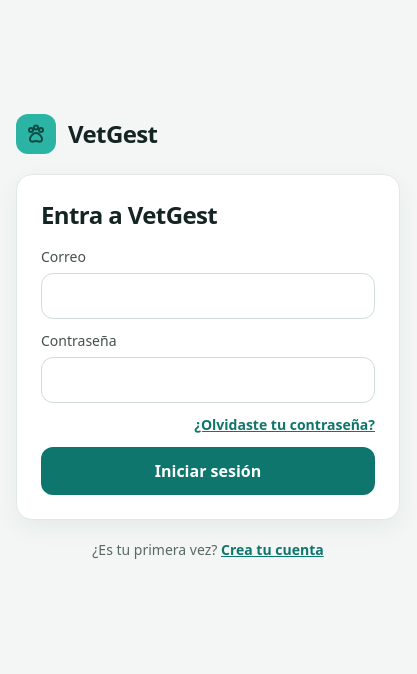
Test case: LoginPage › registra con los datos correctos y avisa si hay que confirmar el correo
Click the button "Crea tu cuenta".
click(272, 550)  # box [221,540,324,560]
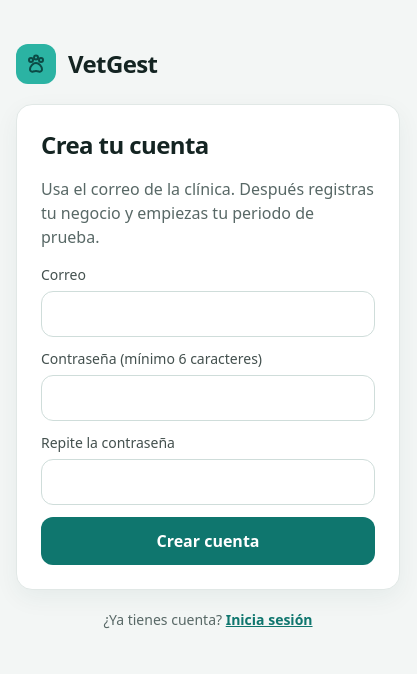
Type " ana@clinica.com " into the field labelled "Correo".
click(208, 314); type(" ana@clinica.com ")  # box [41,291,375,337]
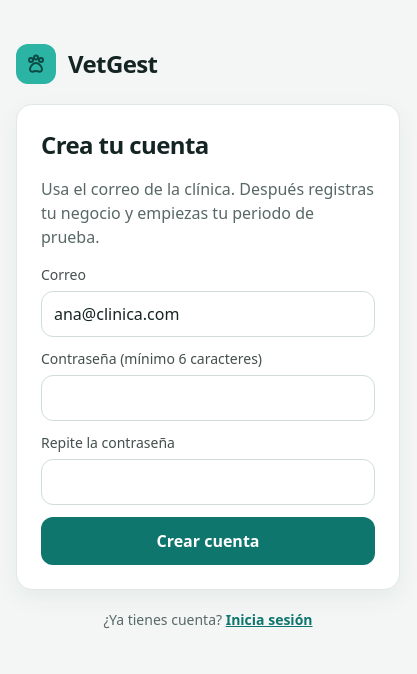
Type "secreta1" into the password field labelled "Contraseña (mínimo 6 caracteres)".
click(208, 398); type("secreta1")  # box [41,375,375,421]
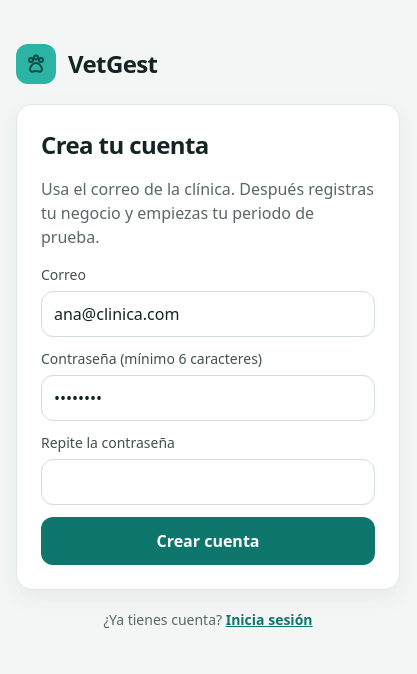
Type "secreta1" into the password field labelled "Repite la contraseña".
click(208, 482); type("secreta1")  # box [41,459,375,505]
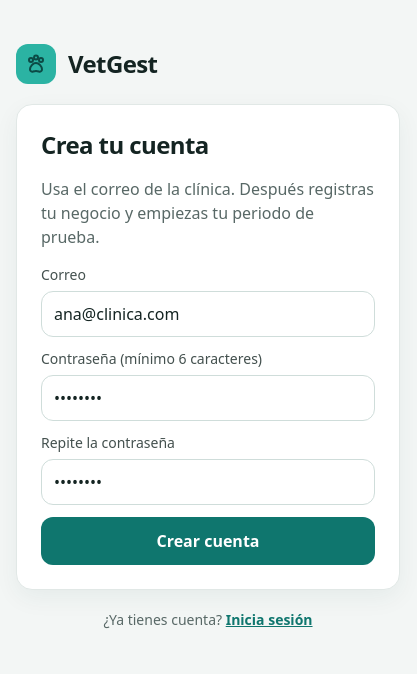
Click the button "Crear cuenta".
click(208, 541)  # box [41,517,375,565]
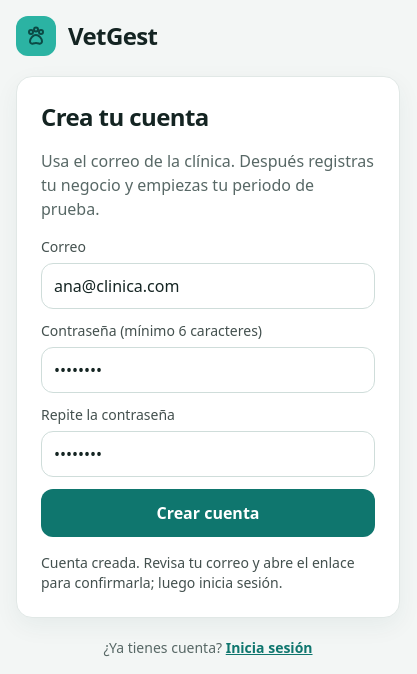
Expected: the message shows "Revisa tu correo", [41,553,355,592]
